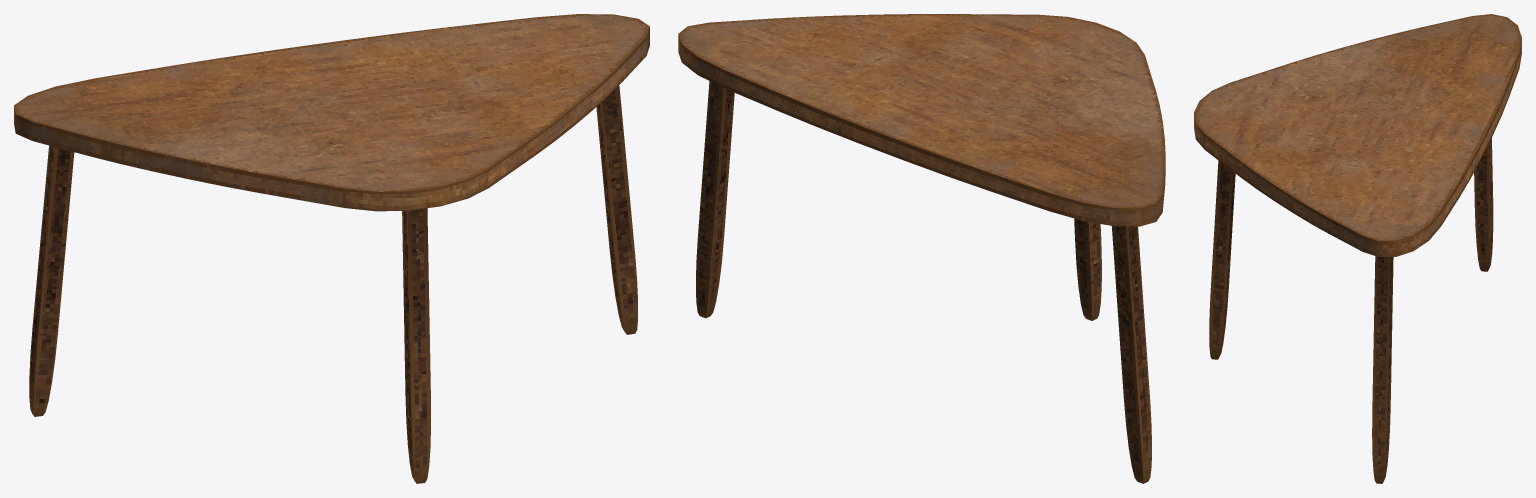
Rendered from CoffeeTable.glb.
The picture shows the model from 3 angles, left to right: view 1: azimuth 30°, elevation 25°; view 2: azimuth 150°, elevation 25°; view 3: azimuth 270°, elevation 25°; orthographic projection. The views are drawn at different scales.
Visible parts, largest first — view 1: CoffeeTable00; view 2: CoffeeTable00; view 3: CoffeeTable00.
Boxes of the visible parts, x1=… form: CoffeeTable00: x1=14, y1=14, x2=649, y2=483; CoffeeTable00: x1=678, y1=14, x2=1165, y2=483; CoffeeTable00: x1=1194, y1=14, x2=1521, y2=483.
Bounding box in the file's own units: 0.9288 × 0.4748 × 0.5666.
Materials: 1 (1 with a texture image).
